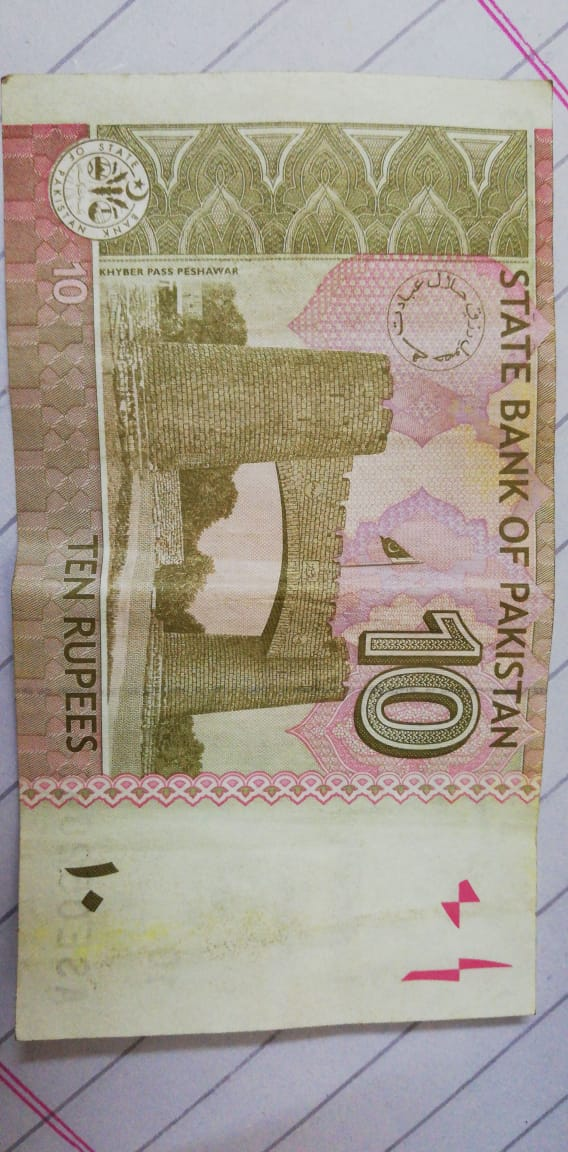10 rupee: (9, 66, 549, 1032)
